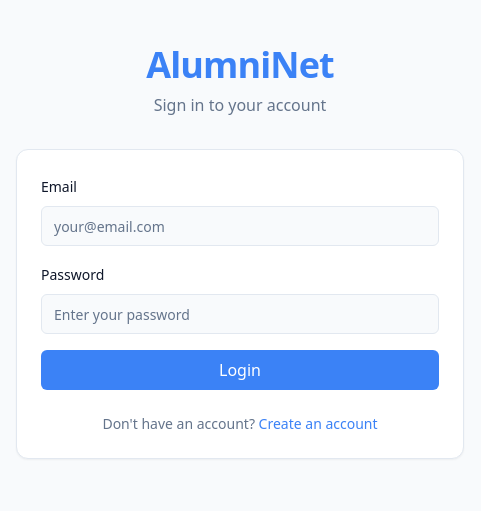
Login component › Validation and error handling › shows an error message when login fails
The image size is (481, 511).
Type "user@test.com" into the field with placeholder "your@email.com" at [240, 226], box x1=41 y1=206 x2=439 y2=246
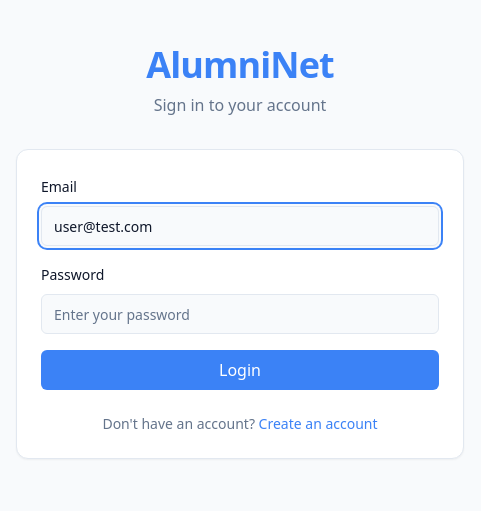
Type "wrongpass" into the password field with placeholder "Enter your password" at [240, 314], box x1=41 y1=294 x2=439 y2=334
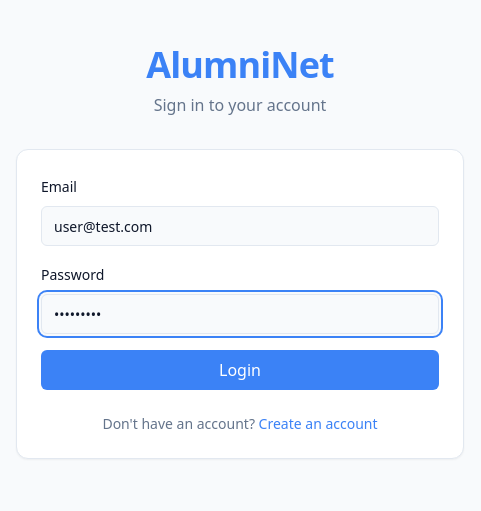
Submit the form from the button "Login", box x1=41 y1=350 x2=439 y2=390
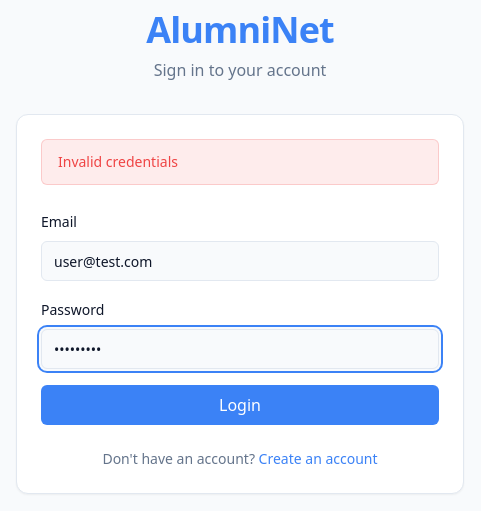
Expected: the text "Invalid credentials" is shown, x1=41 y1=139 x2=439 y2=185
